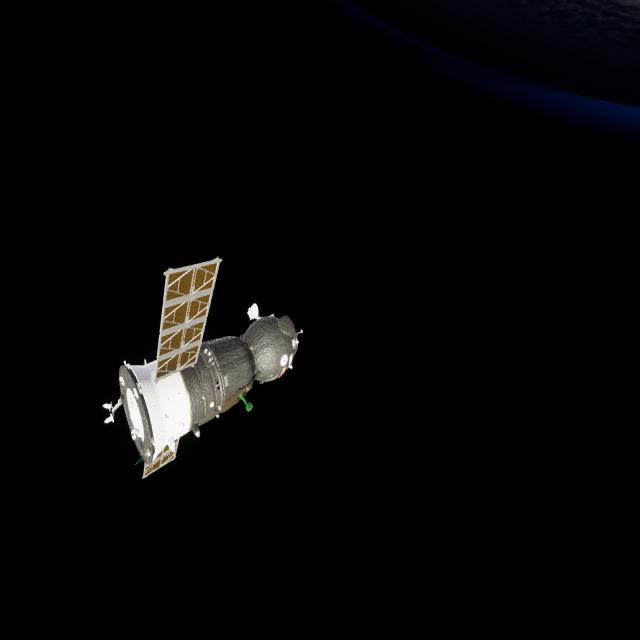Satellites revolving around earth: (101, 254, 304, 480)
